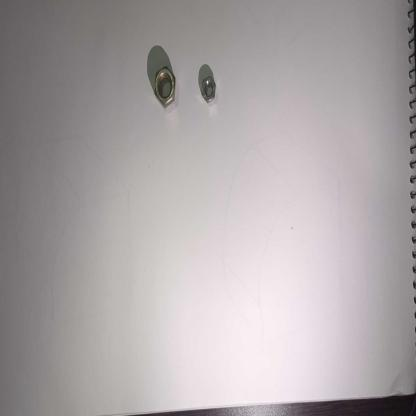NUTS: (152, 62, 179, 111), (198, 70, 221, 106)
